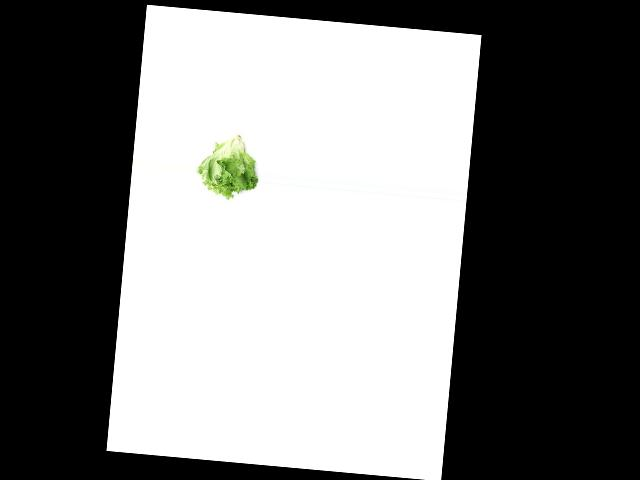lettuce: (193, 130, 263, 200)
